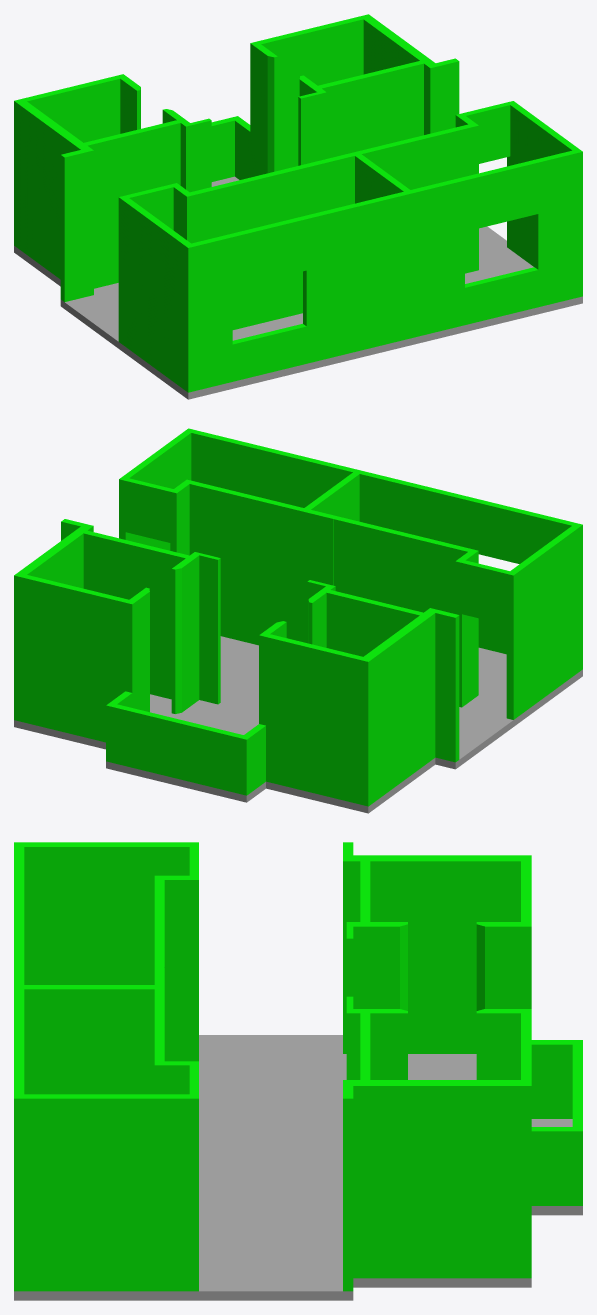
The model's file is LP_CORE.gltf.
3 views of the same model, one above another, from view 1: azimuth 30°, elevation 25°; view 2: azimuth 150°, elevation 25°; view 3: azimuth 270°, elevation 25° (orthographic). The views are drawn at different scales.
Size of the model in its own units: 8.85 by 3.25 by 8.3.
